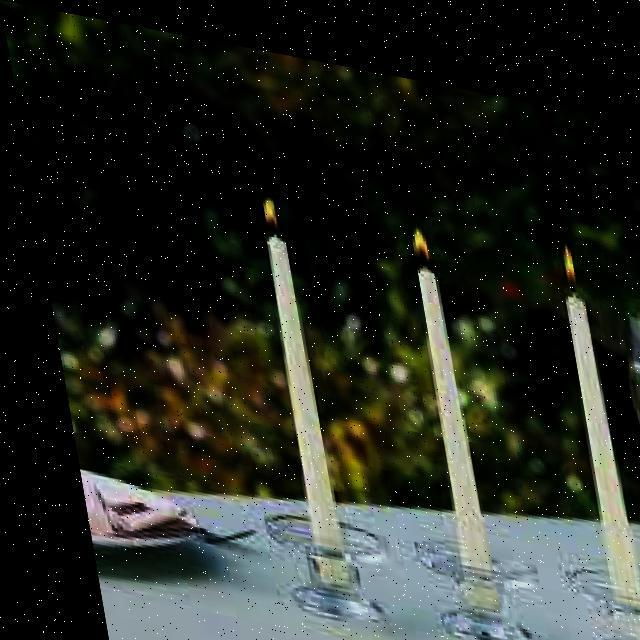Fire: (392, 204, 436, 256), (242, 179, 282, 230), (546, 212, 578, 274)
